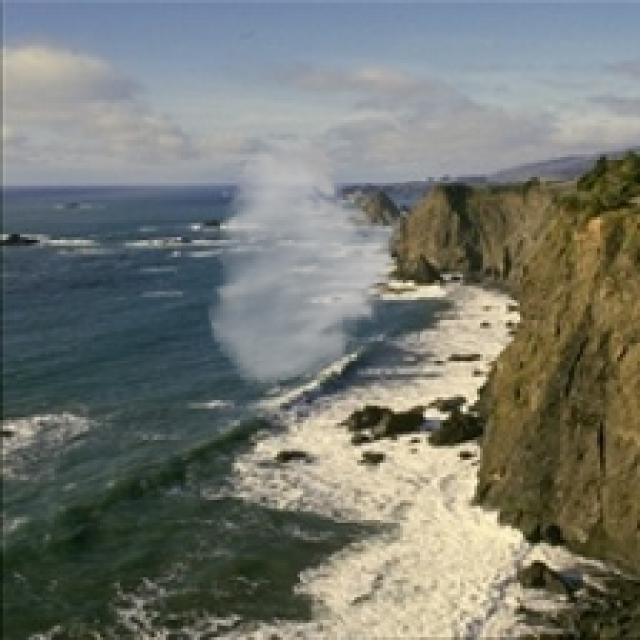Smoke: (206, 134, 406, 392)
